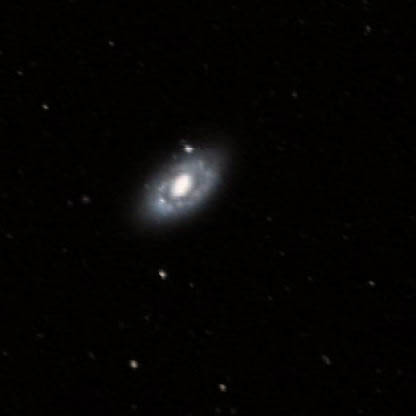NGC 4102: (121, 133, 246, 238)
